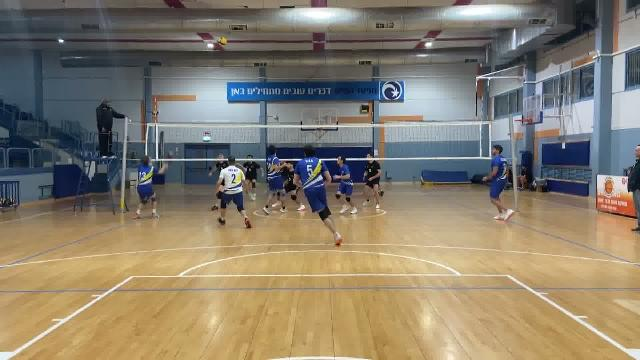ball: (219, 38, 229, 47)
